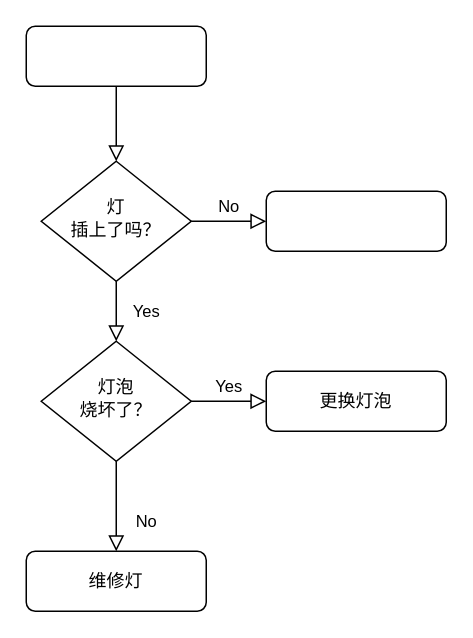
Some shapes in this 473 by 638 pixel diagram are drawn without their labels. Here are the shapes that lost their labels. From the top down, the box of each, then its label:
(25, 25, 206, 86): 灯不亮
(265, 190, 446, 251): 插电灯
